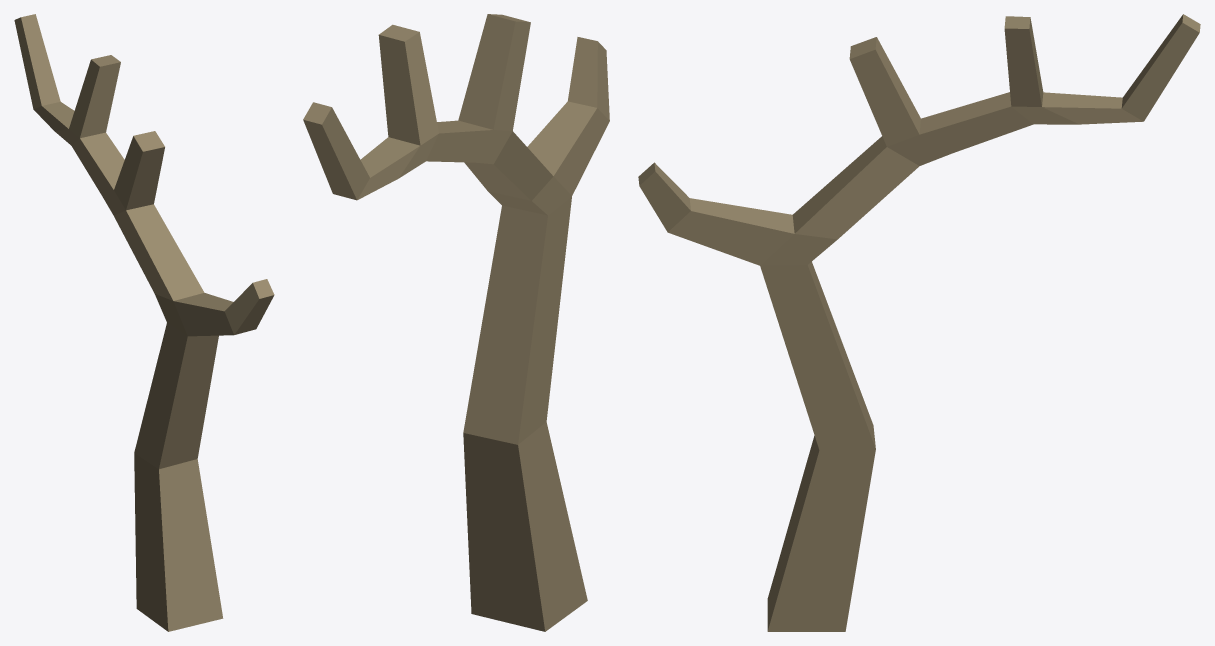
Rendered from tree_big_5.fbx.
The picture shows the model from 3 angles, left to right: view 1: azimuth 30°, elevation 25°; view 2: azimuth 150°, elevation 25°; view 3: azimuth 270°, elevation 25°; orthographic projection. The views are drawn at different scales.
Parts seen in each view (by area): view 1: tree_big_5; view 2: tree_big_5; view 3: tree_big_5.
Part boxes in pixels (bbox=[...]): tree_big_5: bbox=[14, 14, 274, 631]; tree_big_5: bbox=[303, 14, 609, 631]; tree_big_5: bbox=[638, 14, 1200, 631].
Bounding box in the file's own units: 28.22 × 239 × 203.
